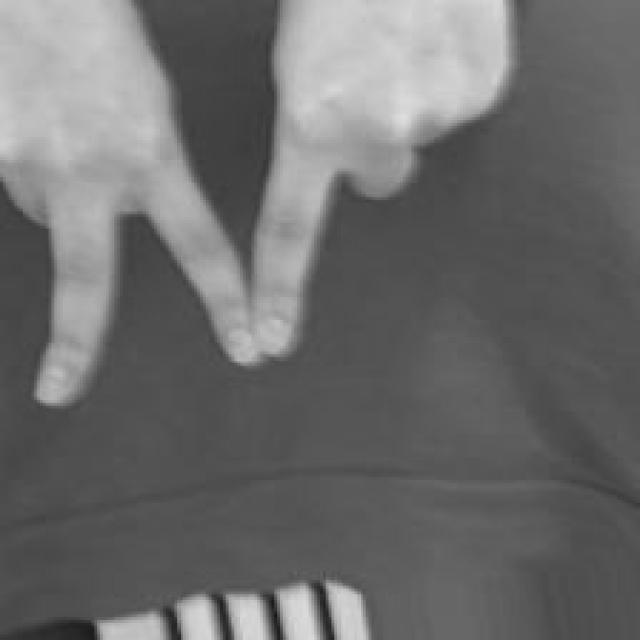N: (3, 0, 511, 412)
